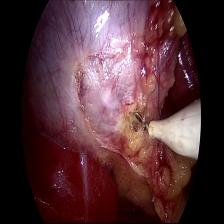Hook: (134, 100, 201, 158)
